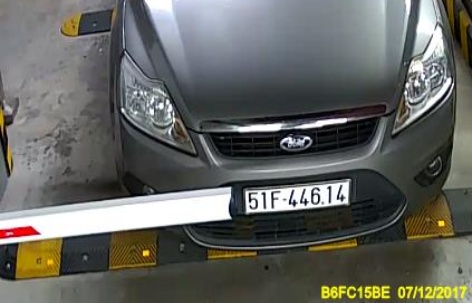plate: (234, 170, 355, 215)
